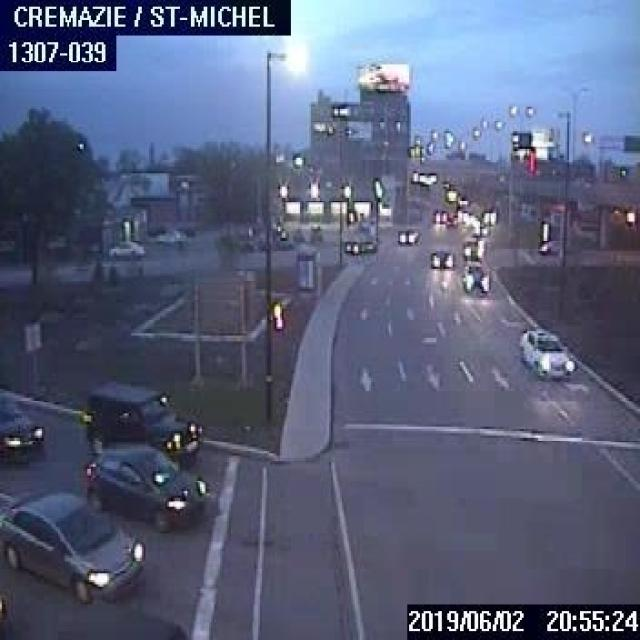vehicle: (0, 488, 144, 603), (84, 443, 208, 533), (0, 584, 187, 637), (86, 380, 199, 464), (0, 382, 45, 460), (516, 324, 576, 378), (460, 258, 490, 294), (108, 238, 144, 257), (154, 228, 188, 248), (462, 237, 484, 260), (429, 246, 451, 266), (536, 238, 562, 253), (342, 235, 361, 252), (359, 236, 376, 252), (396, 229, 414, 244), (432, 207, 447, 223)
